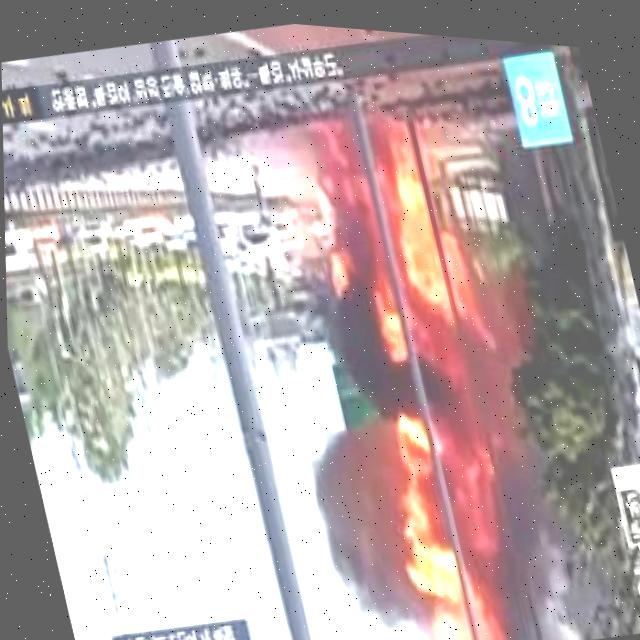Fire: (334, 100, 495, 379), (374, 404, 523, 636)
